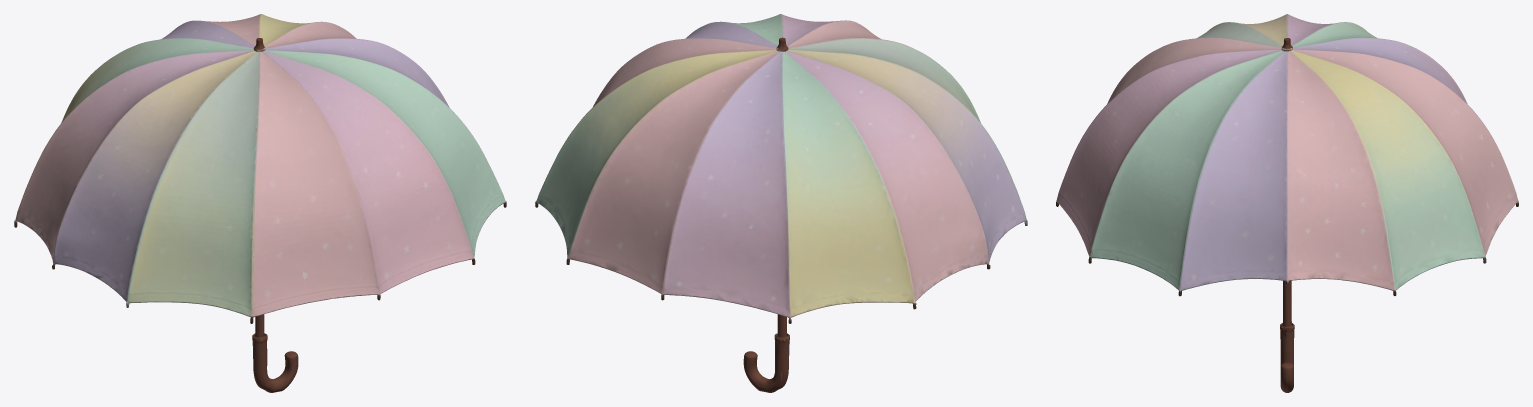
The picture shows the model from 3 angles, left to right: view 1: azimuth 30°, elevation 25°; view 2: azimuth 150°, elevation 25°; view 3: azimuth 270°, elevation 25°; orthographic projection. The views are drawn at different scales.
Visible parts, largest first — view 1: tripo_node_ca3d0e54-ec3f-42da-82d3-fa58cccfc130; view 2: tripo_node_ca3d0e54-ec3f-42da-82d3-fa58cccfc130; view 3: tripo_node_ca3d0e54-ec3f-42da-82d3-fa58cccfc130.
Part boxes in pixels (<box>): tripo_node_ca3d0e54-ec3f-42da-82d3-fa58cccfc130: <box>14,14,506,392</box>; tripo_node_ca3d0e54-ec3f-42da-82d3-fa58cccfc130: <box>535,14,1027,392</box>; tripo_node_ca3d0e54-ec3f-42da-82d3-fa58cccfc130: <box>1056,14,1518,392</box>.
Size of the model in its own units: 0.9763 by 0.8016 by 0.9781.
Materials: 1 (1 with a texture image).
